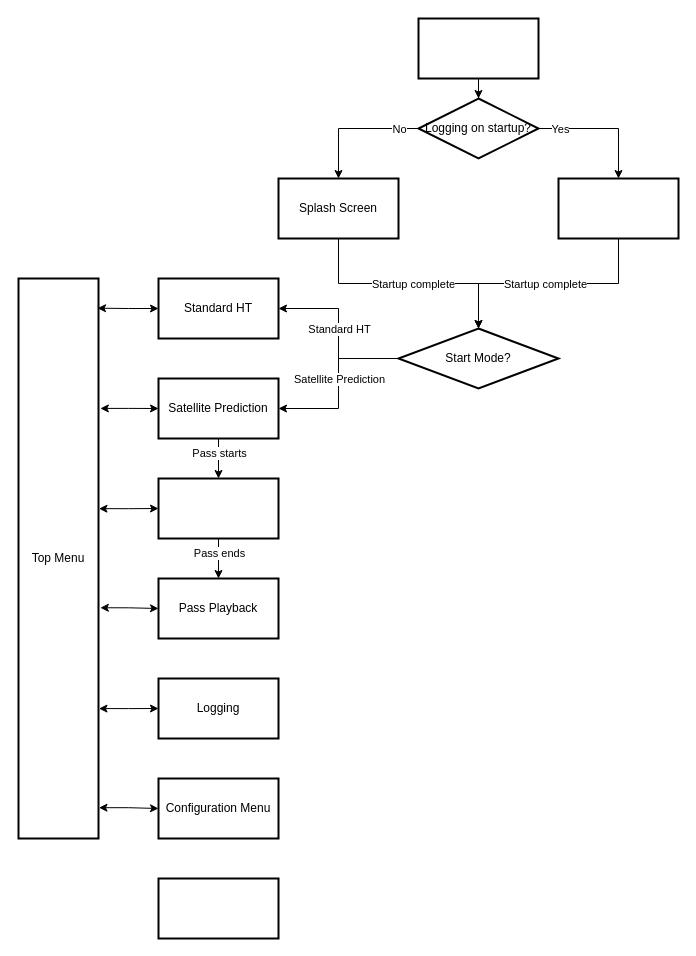
Image size: 696x956. Some labels were removed from this diagram. Each missing label, with the box of its shape:
APRS/Packet (v3?): (157, 877, 279, 939)
FM Satellite Operation: (157, 477, 279, 539)
Logging (Esc disabled): (557, 177, 679, 239)
Start: (417, 17, 539, 79)
